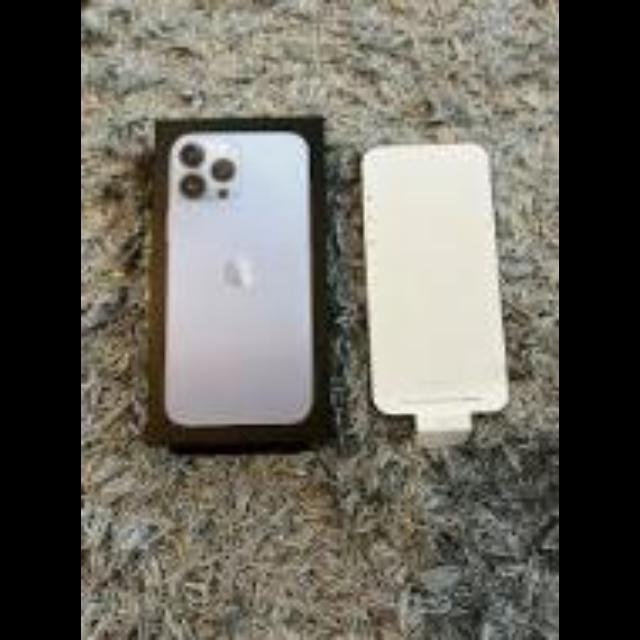Phone: (171, 134, 315, 426)
